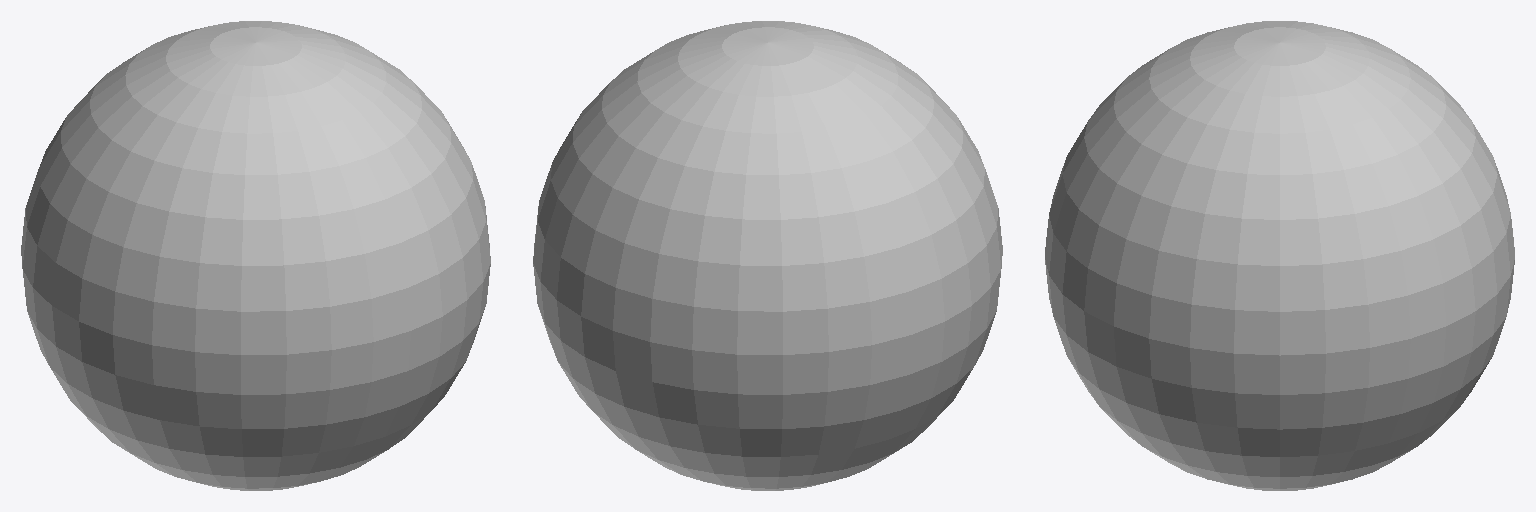
Rendered from Moon.obj.
3 renders of one model, left to right at view 1: azimuth 30°, elevation 25°; view 2: azimuth 150°, elevation 25°; view 3: azimuth 270°, elevation 25°, orthographic.
Parts seen in each view (by area): view 1: Sphere; view 2: Sphere; view 3: Sphere.
Part boxes in pixels (left/top/right/bottom): Sphere: left=21, top=21, right=490, bottom=490; Sphere: left=533, top=21, right=1002, bottom=490; Sphere: left=1045, top=21, right=1514, bottom=490.
Bounding box in the file's own units: 0.7585 × 0.7585 × 0.7585.